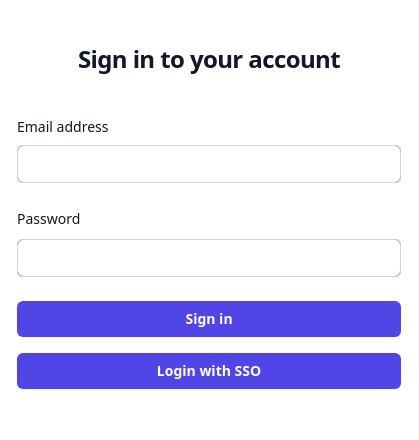
Scenario: Unsuccessful Login › Check that the validation for each input is working correctly or not when the user submits the form.
Type "admin@bbv.vn" into the field with id "email" at point(209, 164), box x1=17 y1=145 x2=401 y2=183
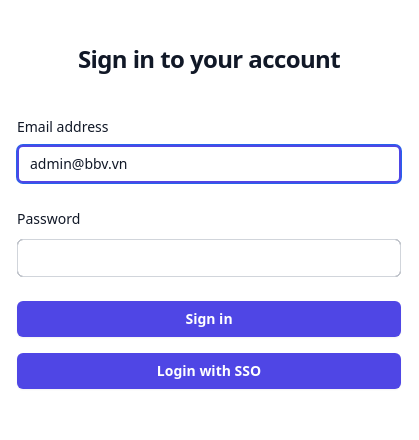
Type "pass@Y7" into the password field labelled "Password" at point(209, 258), box x1=17 y1=239 x2=401 y2=277
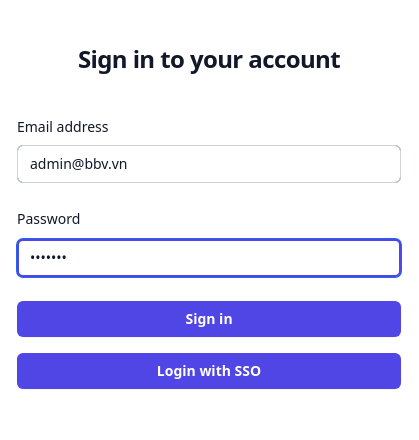
Click the button with id "login" at point(209, 319), box x1=17 y1=301 x2=401 y2=337
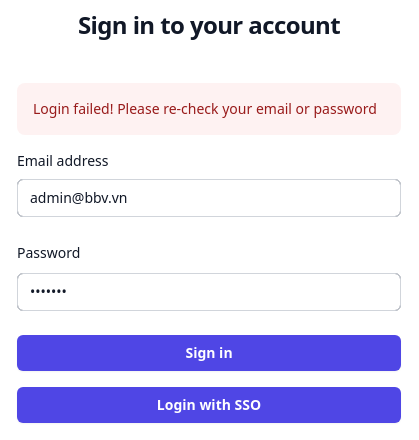
Now the message "Login failed! Please re-check your email or password" is shown, box x1=17 y1=83 x2=401 y2=135
